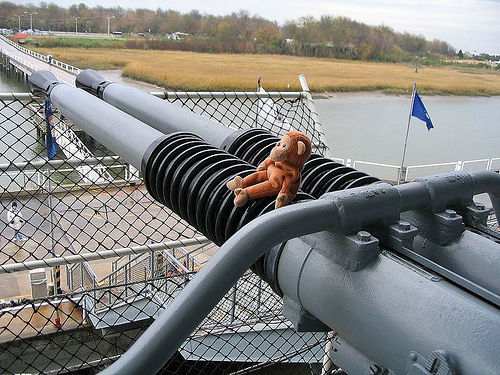rifle: (33, 68, 487, 357)
